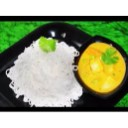idiyappam: (10, 38, 75, 108)
